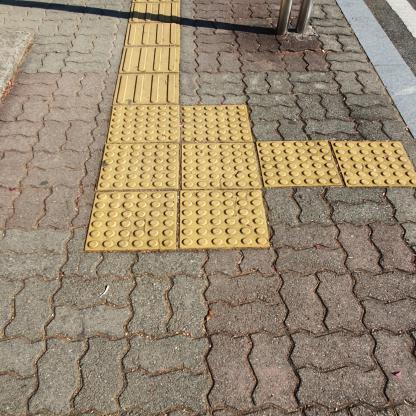podotacti: (78, 107, 416, 258), (102, 0, 194, 106)
